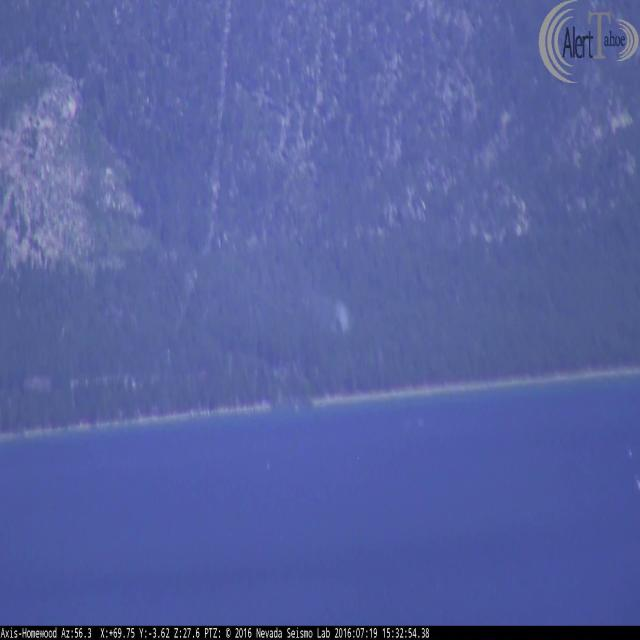smoke: (312, 281, 359, 335)
